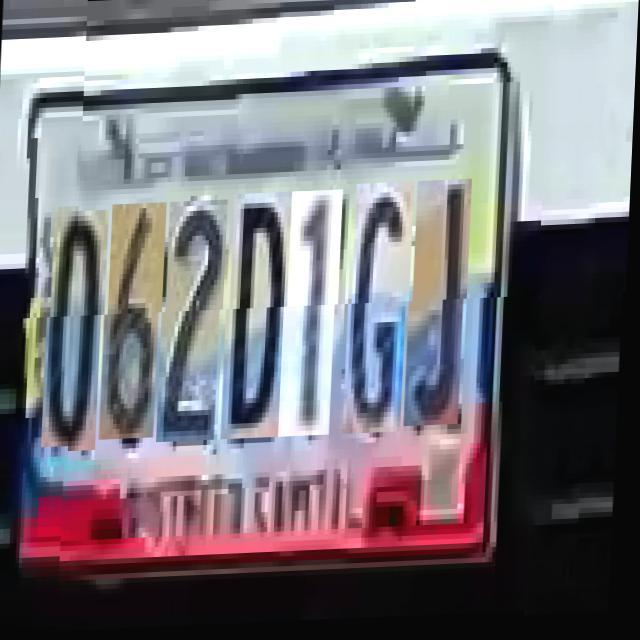1: (286, 192, 346, 440)
2: (164, 202, 230, 444)
6: (106, 204, 168, 441)
D: (228, 195, 294, 442)
G: (350, 185, 416, 437)
J: (411, 183, 474, 430)
O: (49, 211, 111, 453)
